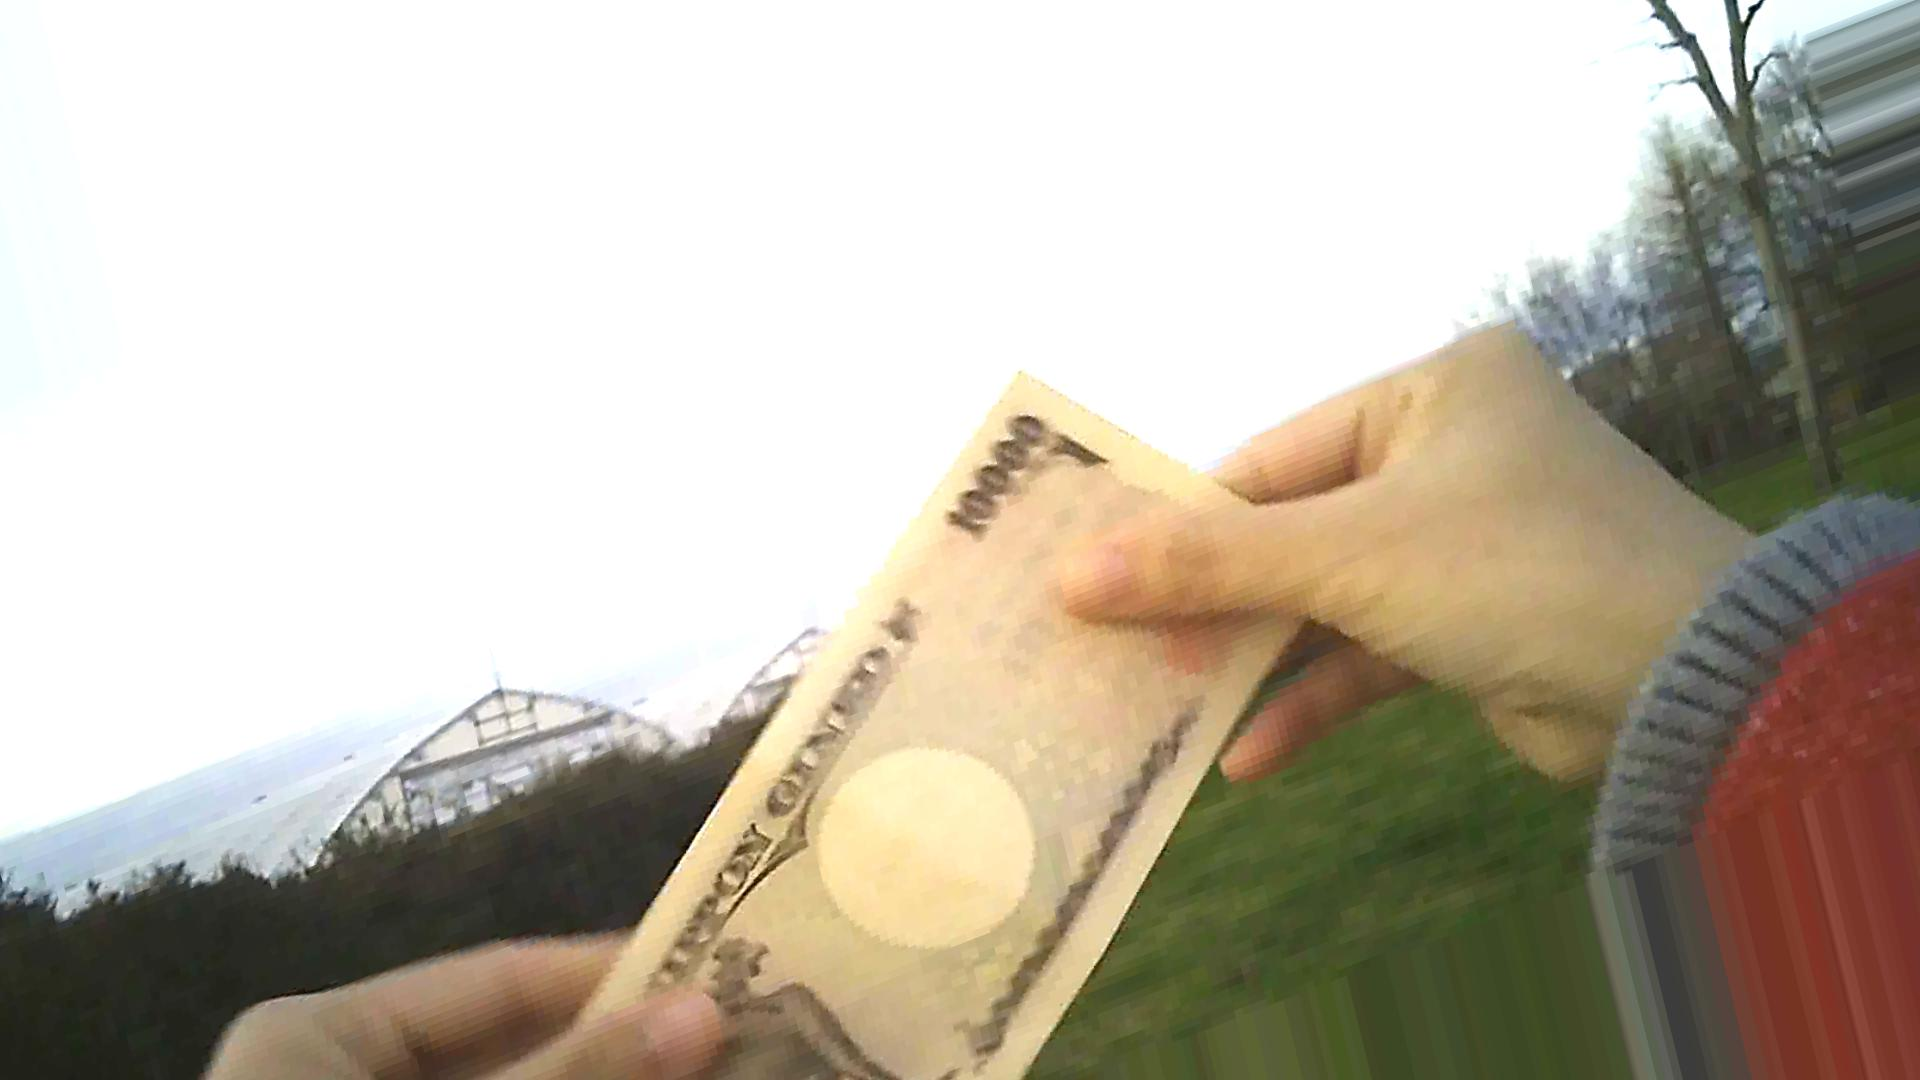10,000 Yen: (559, 368, 1276, 1079)
